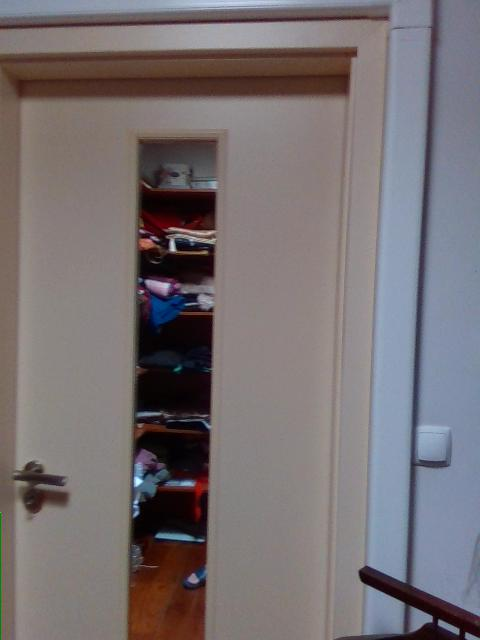door: (0, 11, 391, 639)
